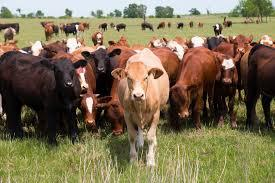cow: (0, 50, 88, 145), (111, 47, 170, 170), (167, 46, 220, 131), (81, 47, 122, 130), (75, 48, 114, 135), (247, 42, 275, 132), (212, 50, 240, 129), (69, 56, 90, 90), (162, 35, 188, 62), (39, 38, 70, 60), (228, 34, 254, 60), (259, 34, 275, 49), (207, 35, 223, 50), (60, 23, 77, 37), (188, 35, 206, 48), (0, 22, 19, 34), (3, 27, 16, 44), (42, 24, 54, 42), (91, 30, 104, 46), (146, 36, 162, 48), (0, 44, 21, 53), (212, 22, 222, 36), (140, 22, 154, 32), (114, 22, 126, 32), (51, 24, 60, 37), (98, 22, 108, 31), (156, 21, 166, 30), (176, 22, 184, 30)
